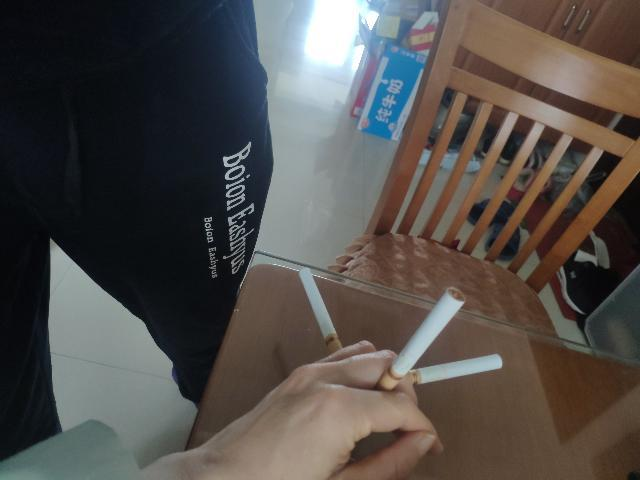Smoking: (368, 286, 468, 400), (298, 266, 350, 370), (386, 353, 504, 391)
